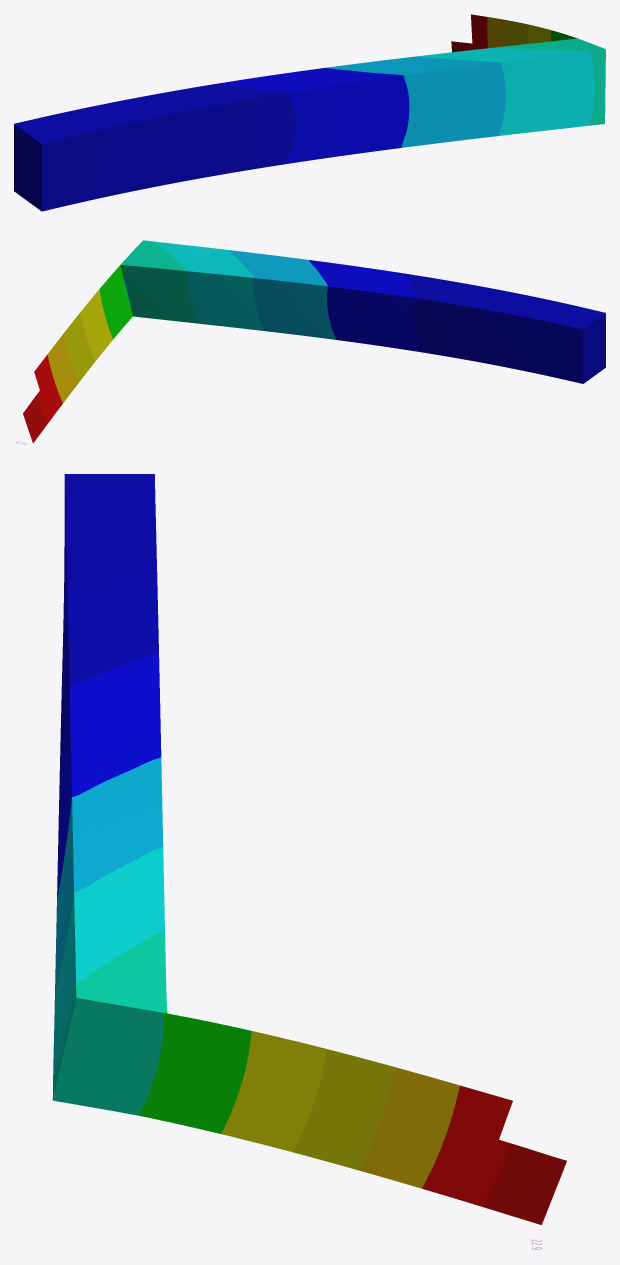
The model's file is UebungTorsion_3d_Verformung.gltf.
The picture shows the model from 3 angles, top to bottom: view 1: azimuth 30°, elevation 25°; view 2: azimuth 150°, elevation 25°; view 3: azimuth 270°, elevation 25°; orthographic projection. The views are drawn at different scales.
Visible parts, largest first — view 1: graphics::SurfaceDeformationGraphics; view 2: graphics::SurfaceDeformationGraphics; view 3: graphics::SurfaceDeformationGraphics.
Part boxes in pixels (x1=…): graphics::SurfaceDeformationGraphics: x1=14, y1=14, x2=605, y2=211; graphics::SurfaceDeformationGraphics: x1=23, y1=240, x2=605, y2=443; graphics::SurfaceDeformationGraphics: x1=52, y1=474, x2=566, y2=1224.
Size of the model in its own units: 7.24 by 2.31 by 3.41.
Materials: 2 (1 with a texture image).
